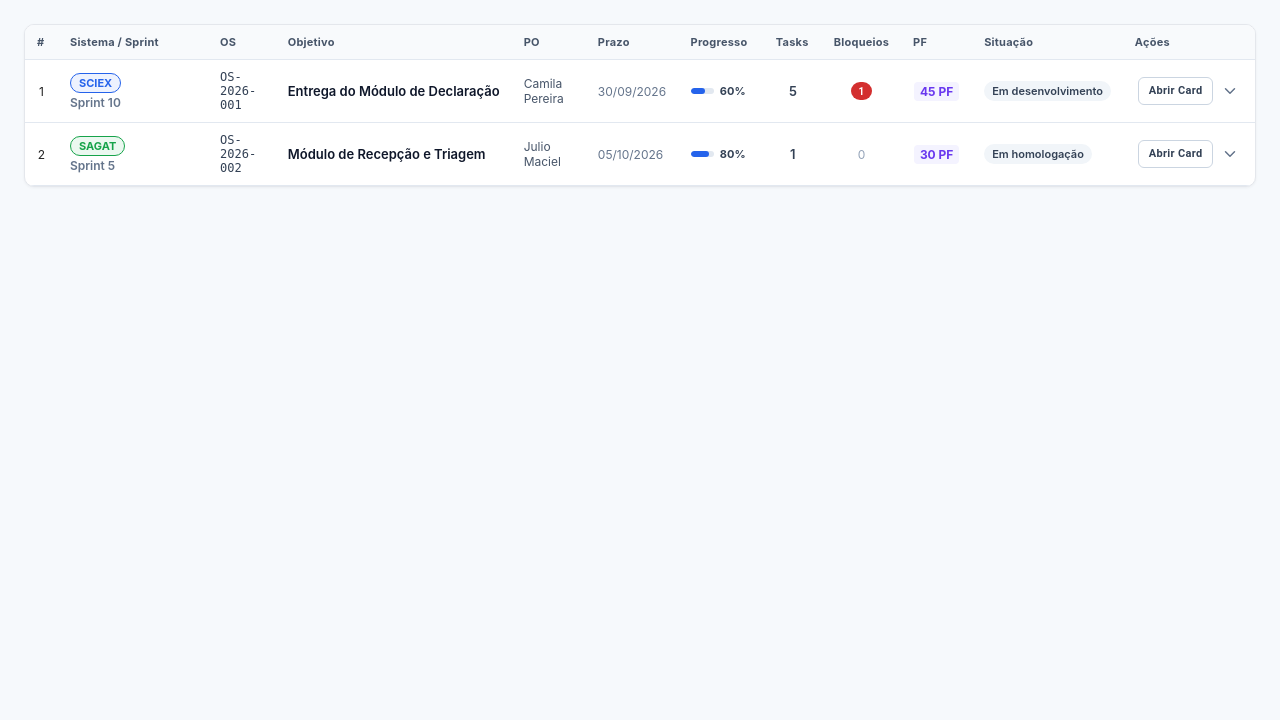
Test: SprintListView - Modo Lista Refatorado › 4. Expandir outra linha recolhe a anterior (somente uma expandida por vez)
Click the text "Entrega do Módulo de Declaração" at (640, 91), box [25,60,1255,122]
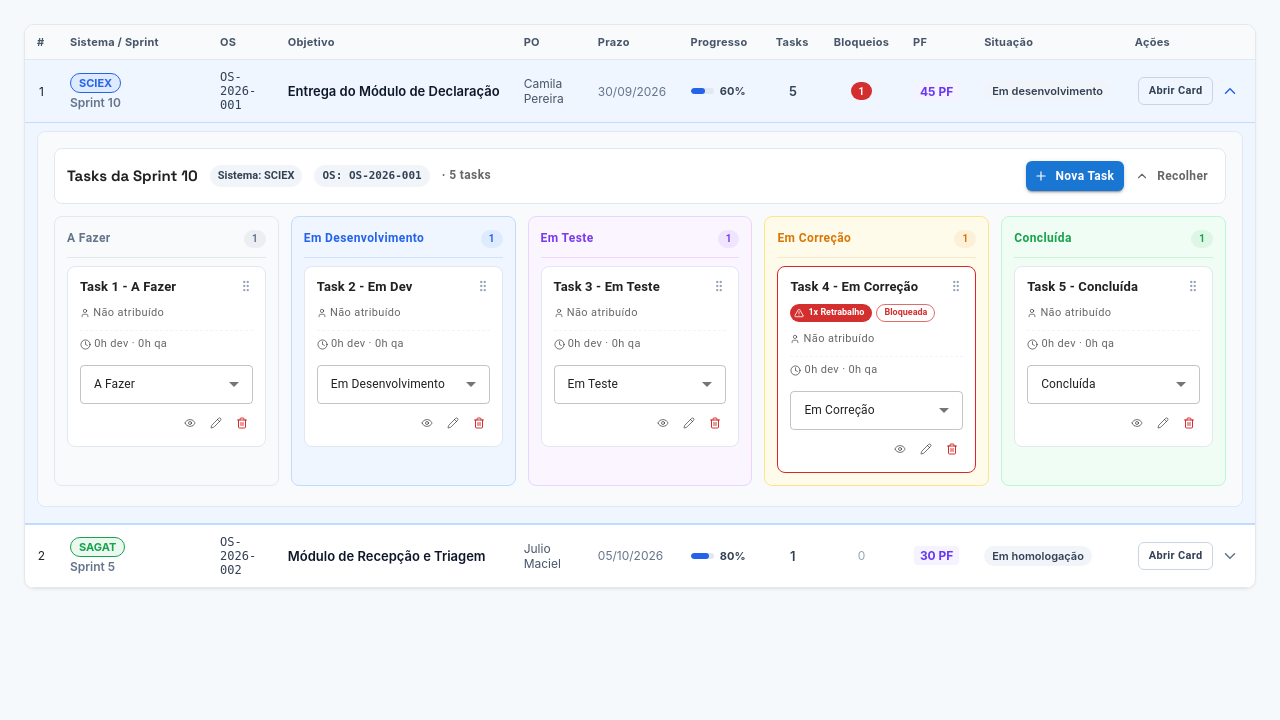
expect the text "Tasks da Sprint 5" is not shown: met
expect the heading "Tasks da Sprint 10" is shown: met, box [67,167,198,185]
Click the text "Módulo de Recepção e Triagem" at (640, 555), box [25,524,1255,587]
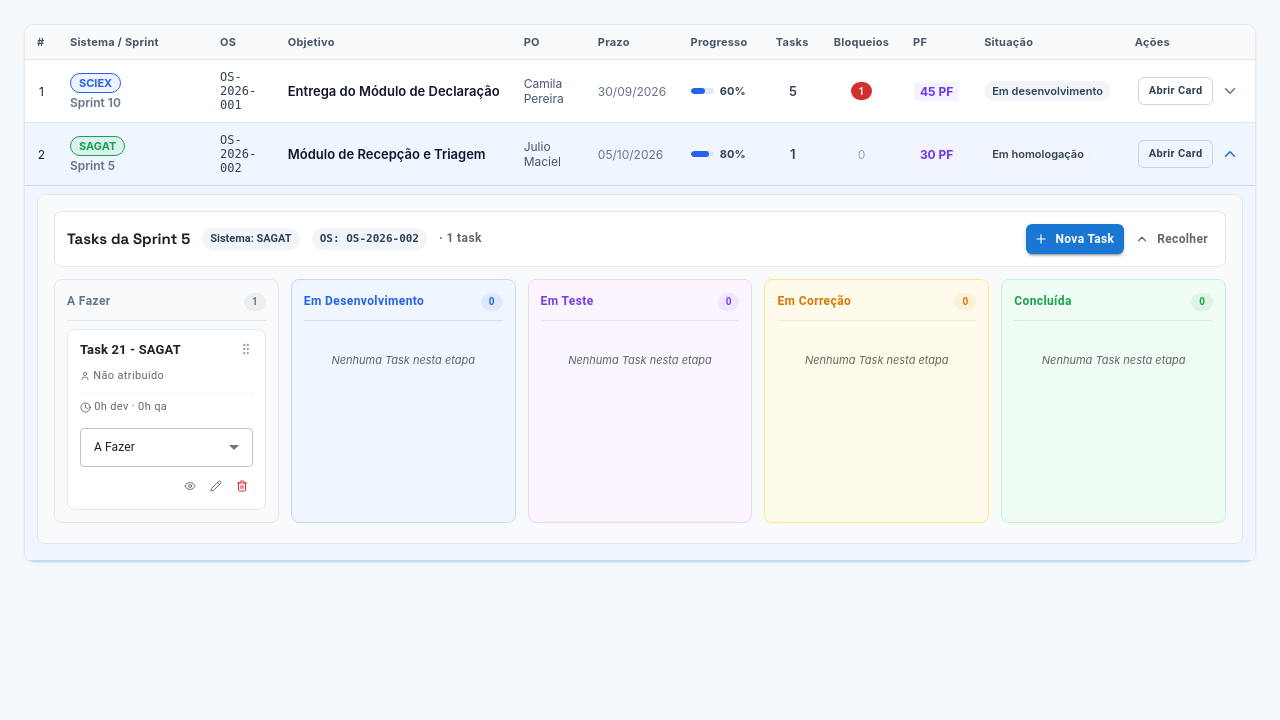
expect the heading "Tasks da Sprint 10" is gone: met
expect the heading "Tasks da Sprint 5" is shown: met, box [67,230,190,248]
